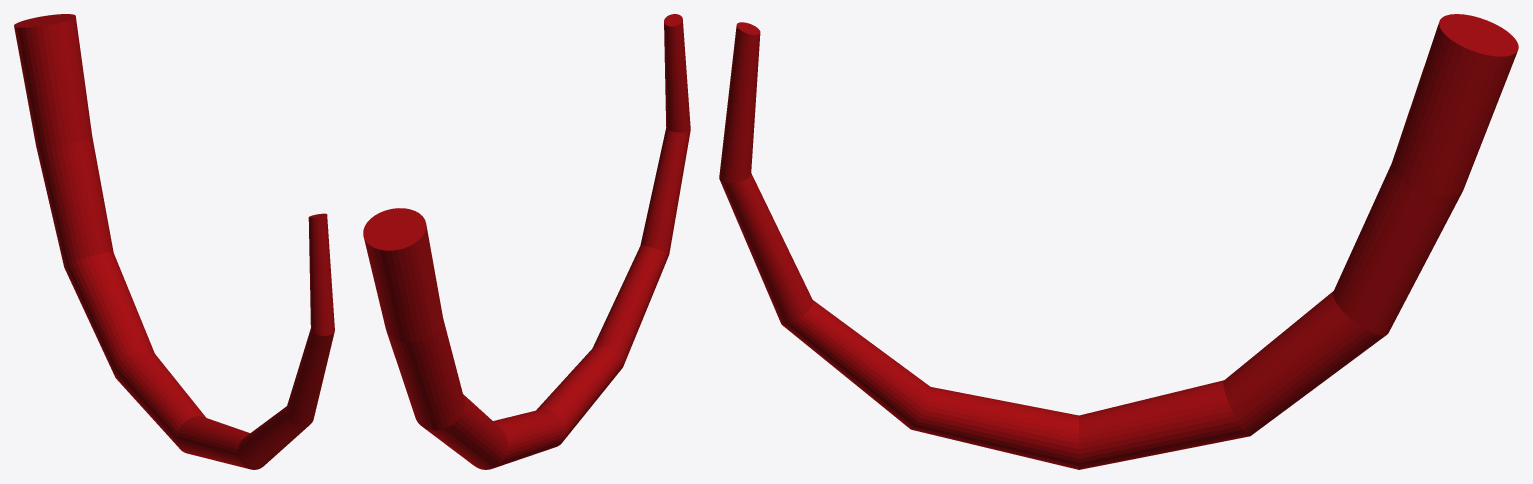
File: Needle.OBJ
3 views of the same model, side by side, from view 1: azimuth 30°, elevation 25°; view 2: azimuth 150°, elevation 25°; view 3: azimuth 270°, elevation 25° (orthographic). The views are drawn at different scales.
Visible parts, largest first — view 1: Needle; view 2: Needle; view 3: Needle.
Boxes of the visible parts, <box> form: Needle: <box>14,14,334,469</box>; Needle: <box>363,14,690,469</box>; Needle: <box>719,14,1518,469</box>.
Size of the model in its own units: 0.0219 by 0.1276 by 0.2083.
